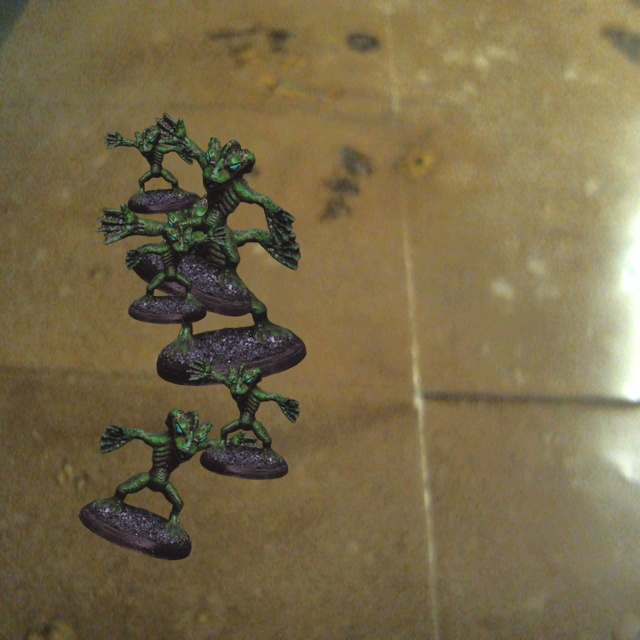pieza_juego: (96, 192, 306, 385), (130, 112, 294, 316), (79, 409, 260, 559), (186, 359, 299, 479), (125, 224, 228, 324), (104, 128, 194, 214)
